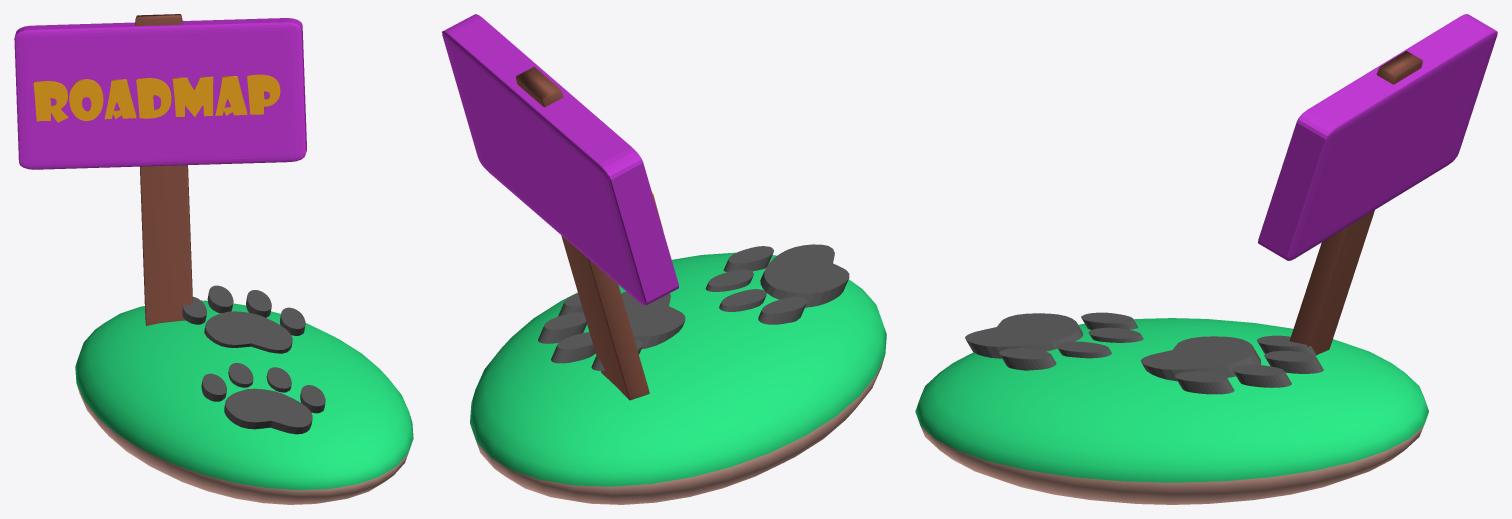
File: WEB3_MENU_R.gltf
The picture shows the model from 3 angles, left to right: view 1: azimuth 30°, elevation 25°; view 2: azimuth 150°, elevation 25°; view 3: azimuth 270°, elevation 25°; orthographic projection. The views are drawn at different scales.
Parts seen in each view (by area): view 1: Sphere.002, Cube.009, Paw Main, Cube.008, Text.005; view 2: Sphere.002, Cube.009, Paw Main, Cube.008; view 3: Sphere.002, Cube.009, Paw Main, Cube.008.
Boxes of the visible parts, x1,y1,x2,y2 form: Sphere.002: (75, 300, 413, 504); Cube.009: (14, 18, 306, 169); Paw Main: (182, 285, 325, 434); Cube.008: (135, 14, 192, 325); Text.005: (33, 74, 280, 122); Sphere.002: (470, 252, 886, 504); Cube.009: (442, 14, 678, 305); Paw Main: (538, 244, 849, 370); Cube.008: (516, 66, 649, 400); Sphere.002: (915, 318, 1428, 504); Cube.009: (1258, 14, 1497, 260); Paw Main: (965, 312, 1323, 394); Cube.008: (1289, 51, 1422, 355).
Bounding box in the file's own units: 0.9752 × 1.34 × 1.68.
